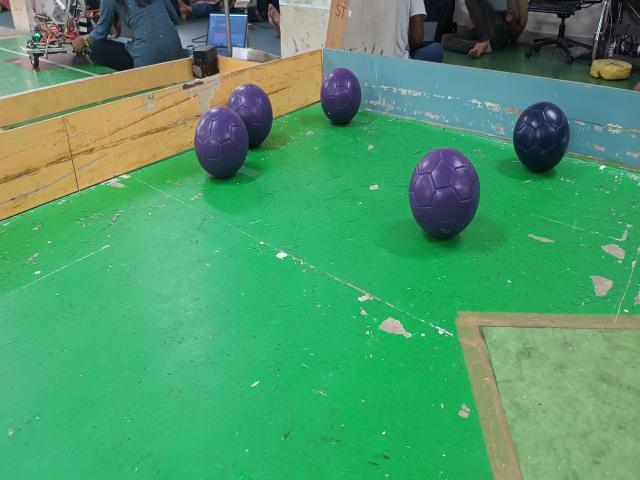jambhalya: (409, 148, 480, 238), (194, 107, 249, 178), (228, 83, 272, 147), (320, 68, 361, 125)
kaalyya: (512, 102, 570, 172)
